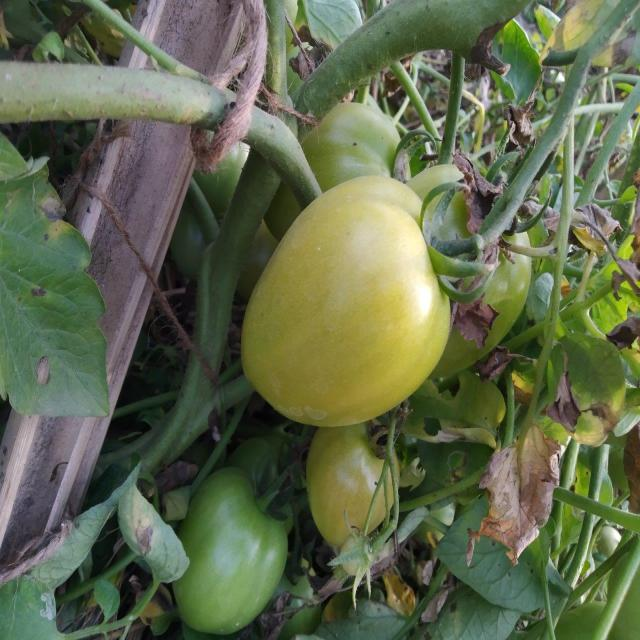Unripe: (241, 168, 452, 430), (174, 468, 291, 640), (302, 419, 399, 554)
